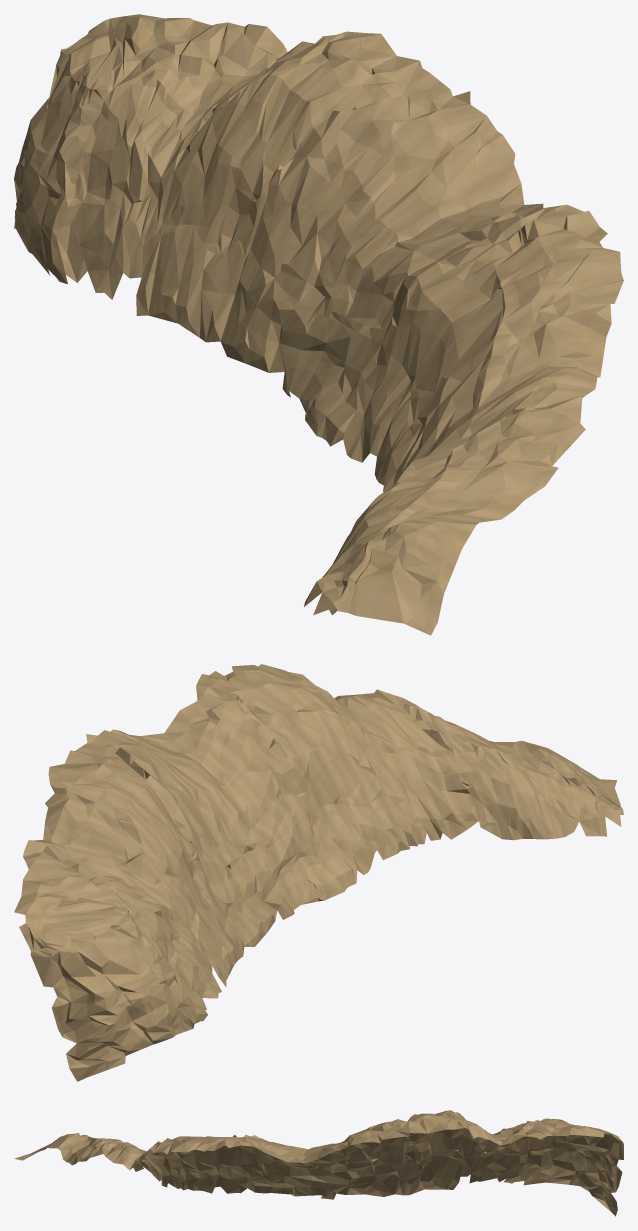
File: SM_ENV_TCHEXA_FaceRock_BG_A_04.fbx
3 renders of one model, top to bottom at view 1: azimuth 30°, elevation 25°; view 2: azimuth 150°, elevation 25°; view 3: azimuth 270°, elevation 25°, orthographic. The views are drawn at different scales.
Parts seen in each view (by area): view 1: SM_ENV_TCHEXA_FaceRock_BG_A_04.mo; view 2: SM_ENV_TCHEXA_FaceRock_BG_A_04.mo; view 3: SM_ENV_TCHEXA_FaceRock_BG_A_04.mo.
Part boxes in pixels (x1,y1,x2,y2): SM_ENV_TCHEXA_FaceRock_BG_A_04.mo: (14,14,623,635); SM_ENV_TCHEXA_FaceRock_BG_A_04.mo: (14,664,623,1081); SM_ENV_TCHEXA_FaceRock_BG_A_04.mo: (14,1110,623,1216).
Bounding box in the file's own units: 22786 × 12923 × 51415.
